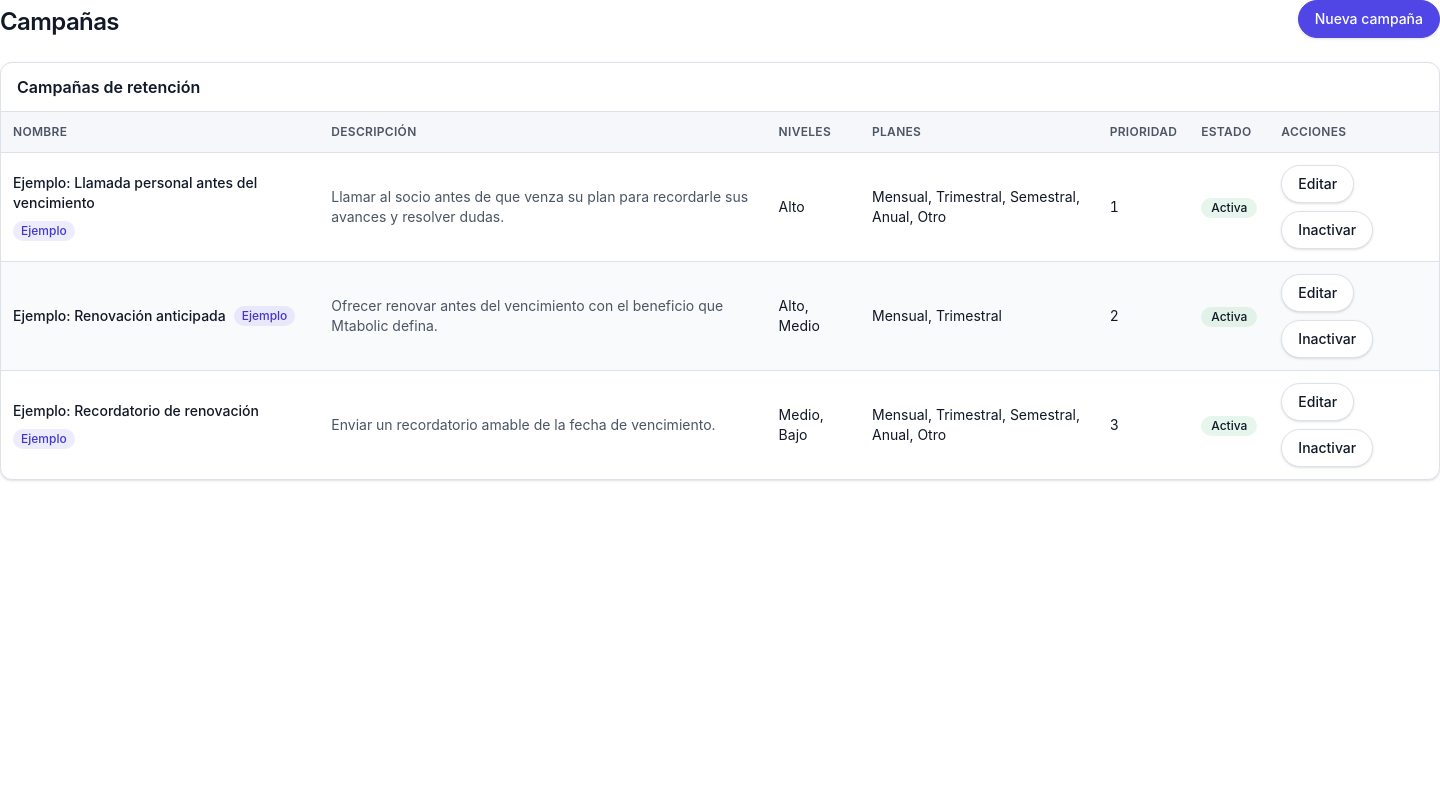
CampaniasPage › "Nueva campaña" abre el formulario con sus campos etiquetados (sin Diario)
Click the button "Nueva campaña" at (1369, 19), box [1298, 0, 1439, 38]
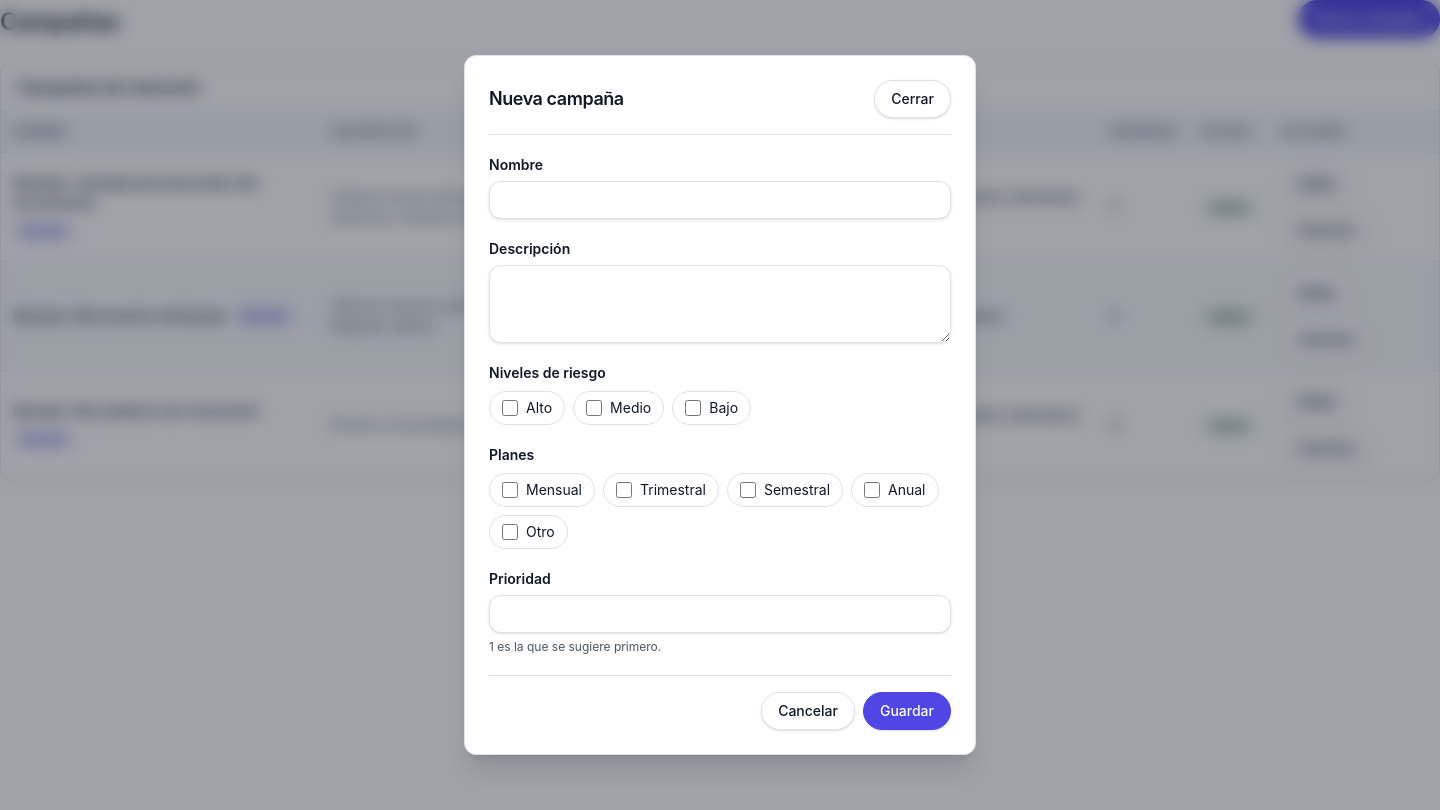
expect the field labelled "Nombre" is empty: met, box [489, 181, 951, 219]
expect the text box labelled "Descripción" is shown: met, box [489, 265, 951, 343]
expect the checkbox labelled "Alto" is not checked: met, box [502, 400, 518, 416]
